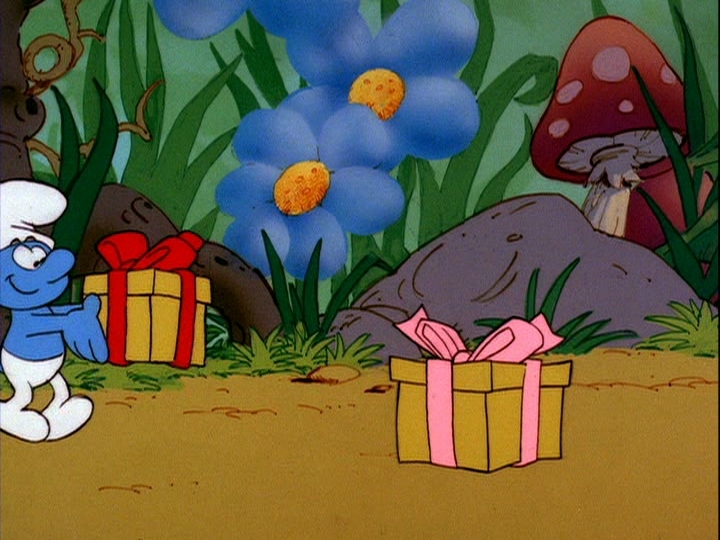smurf: (1, 174, 102, 443)
